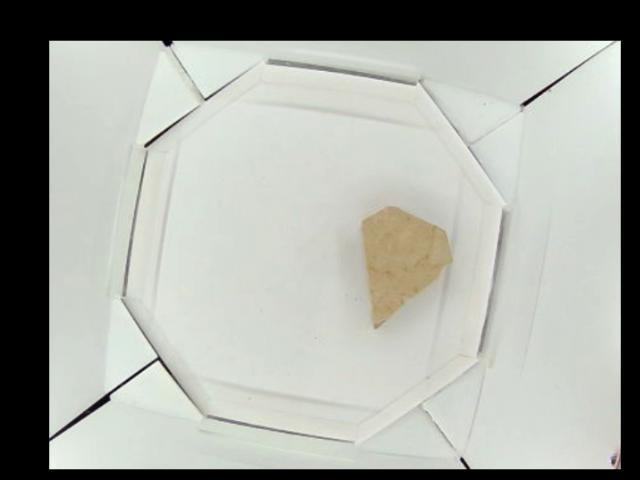China: (359, 204, 454, 328)
